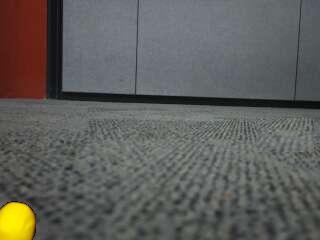Lemon: (0, 202, 37, 239)
